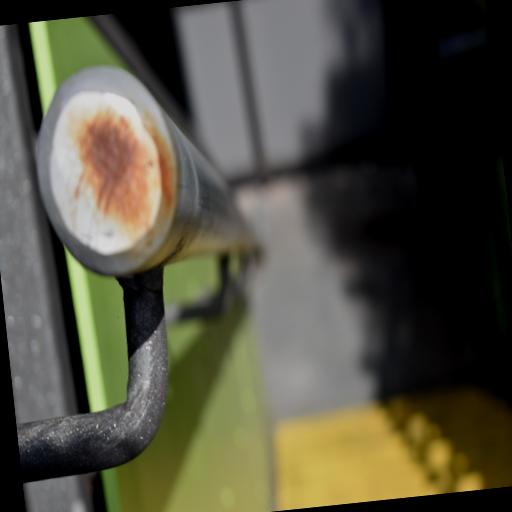corrosion: (14, 70, 198, 272)
